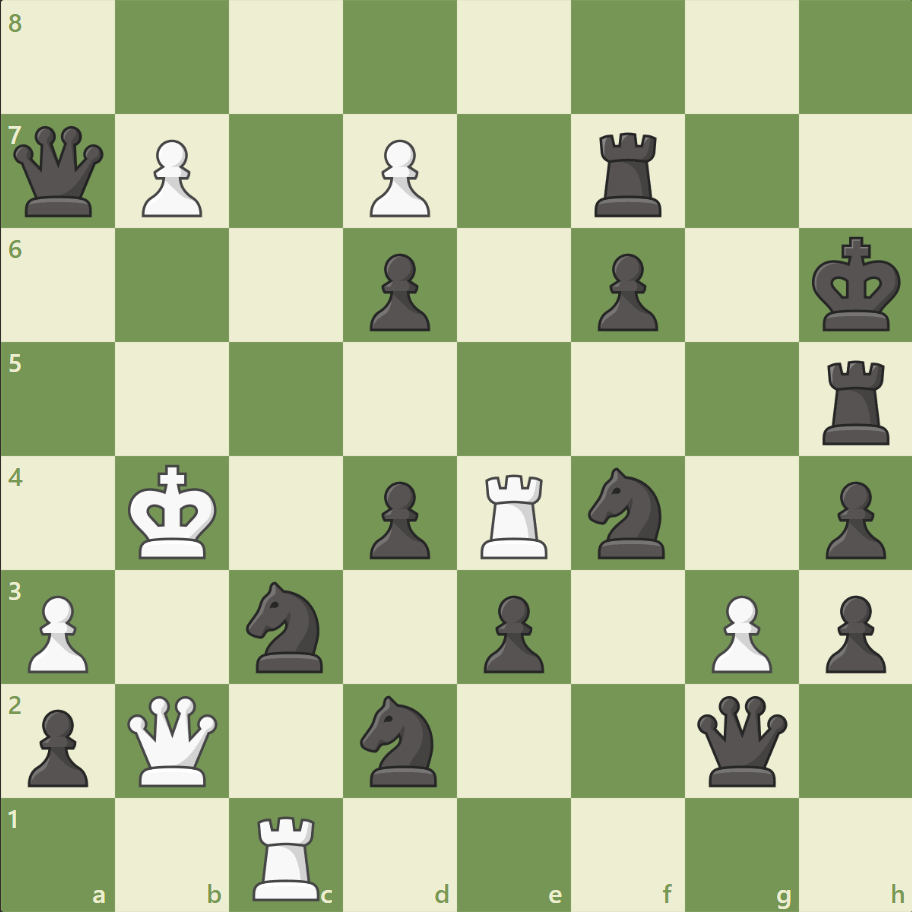K: (124, 458, 224, 566)
P: (133, 132, 208, 223), (20, 586, 95, 677), (701, 586, 776, 677), (361, 132, 435, 223)
Q: (124, 690, 223, 789)
R: (246, 806, 329, 904), (473, 466, 556, 563)
k: (806, 231, 906, 339)
n: (351, 688, 449, 791), (579, 461, 676, 564), (238, 575, 335, 677)
p: (474, 586, 549, 677), (20, 700, 95, 791), (361, 246, 435, 337), (588, 246, 662, 337), (361, 473, 435, 564), (815, 473, 889, 564), (815, 586, 889, 677)
q: (10, 122, 109, 222), (691, 690, 790, 789)
r: (587, 125, 670, 222), (814, 352, 897, 449)
